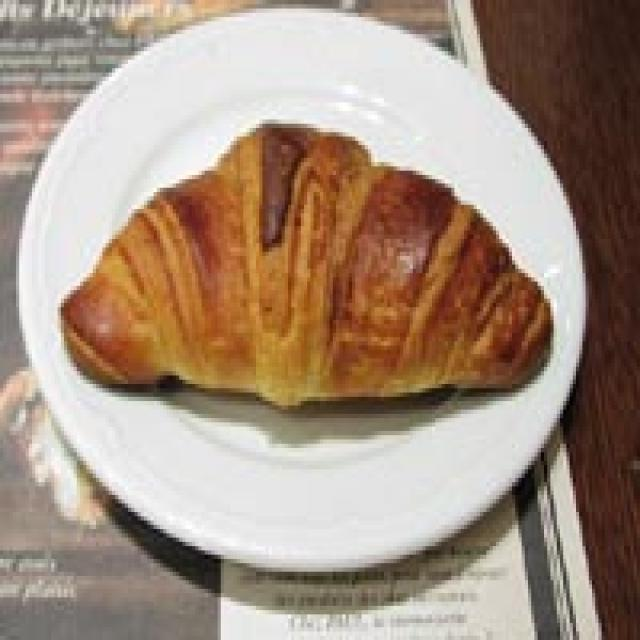Croissant: (58, 103, 560, 414)
